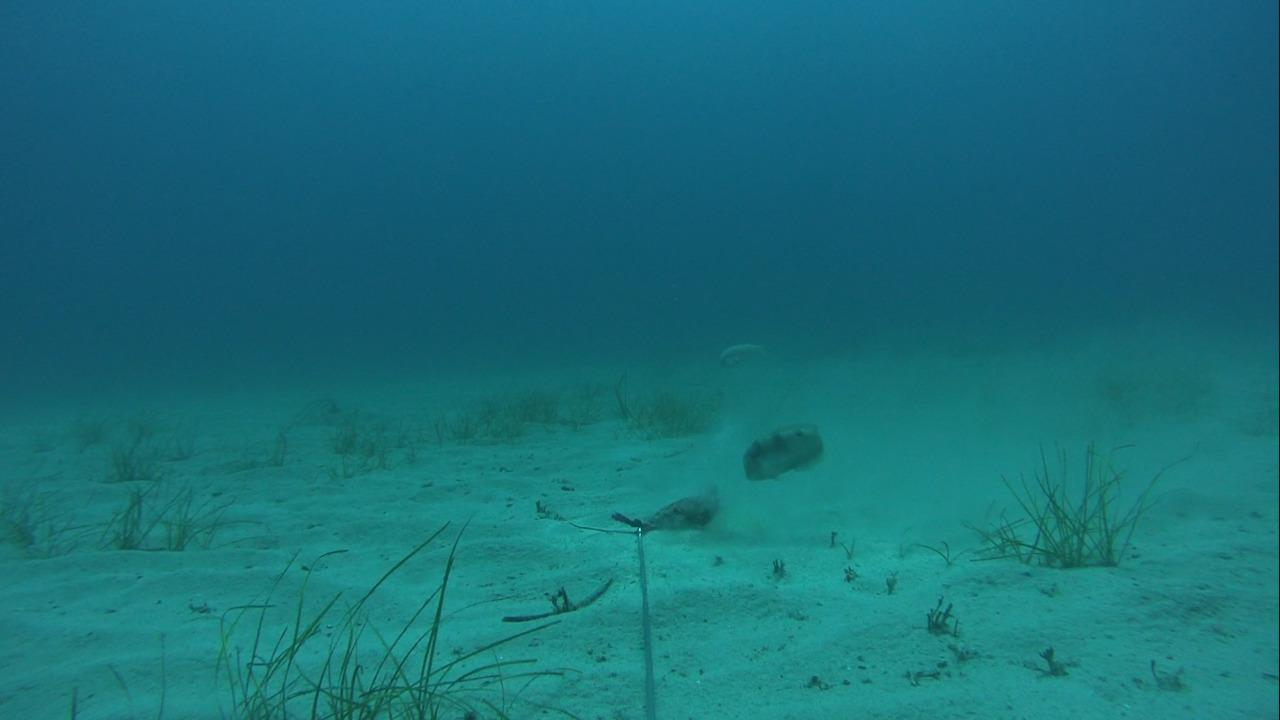raor: (741, 415, 829, 484), (712, 340, 772, 376)
